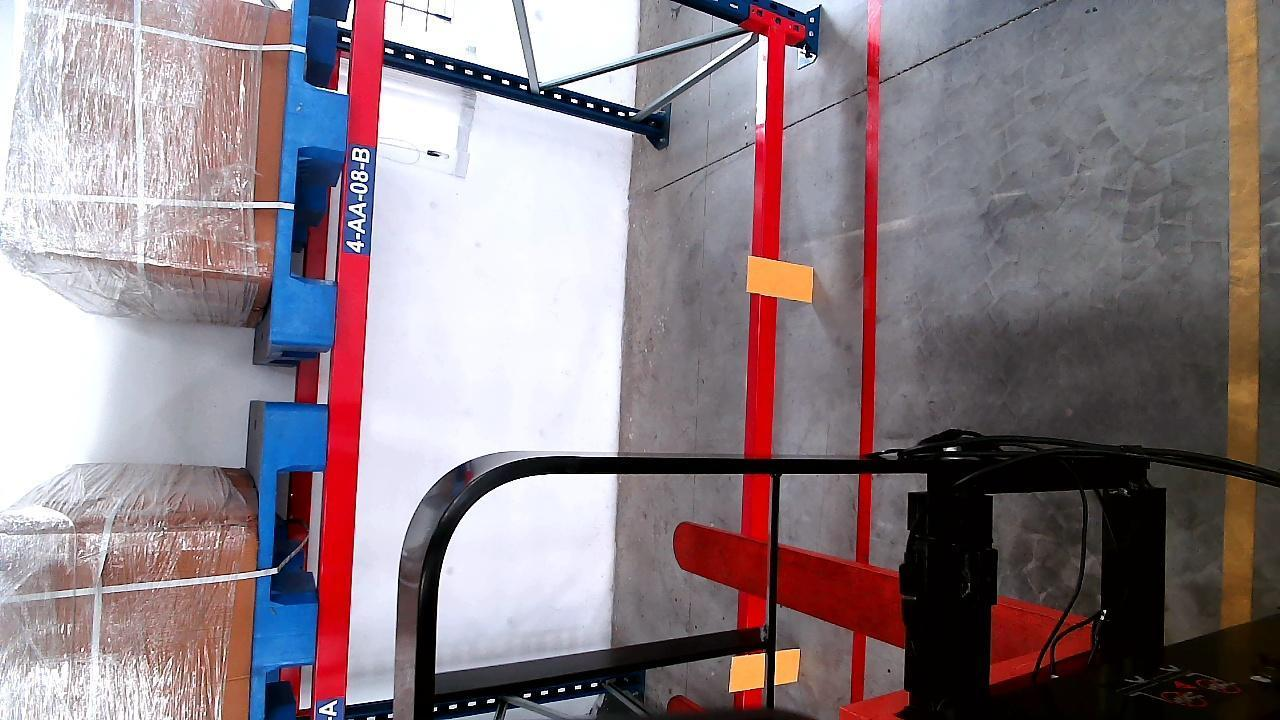h_rack: (311, 4, 390, 720), (736, 30, 788, 713)
orange_strip: (749, 257, 816, 299), (730, 649, 792, 689)
red_line: (849, 17, 884, 709)
small_pallet: (266, 0, 351, 354), (252, 408, 327, 716)
